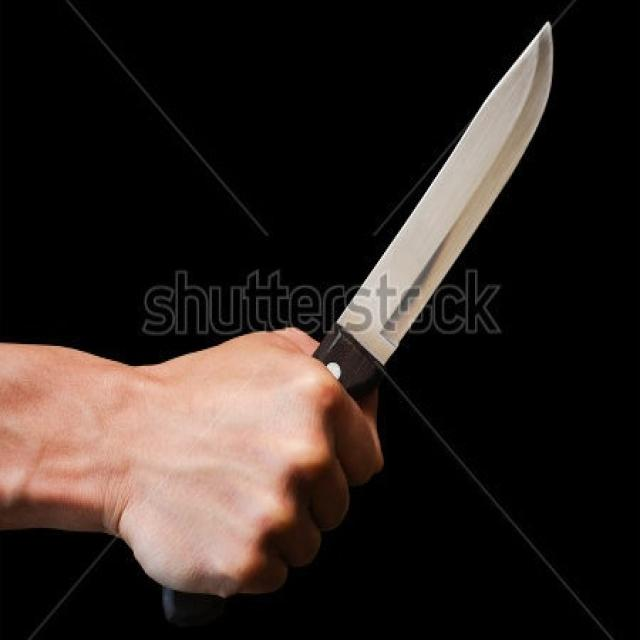knife: (329, 20, 559, 402)
